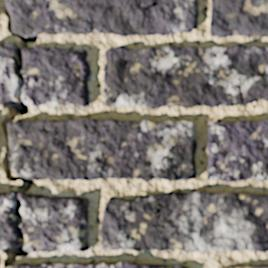brick: (9, 119, 195, 180), (104, 45, 267, 107), (100, 192, 267, 251), (6, 0, 198, 36), (207, 120, 267, 181), (210, 0, 267, 36), (4, 262, 186, 267), (228, 266, 267, 267)
broken_brick: (23, 45, 91, 107), (19, 193, 89, 253), (0, 41, 16, 104), (0, 189, 16, 250)
crack: (0, 2, 38, 265), (132, 134, 182, 179), (148, 47, 174, 95)
